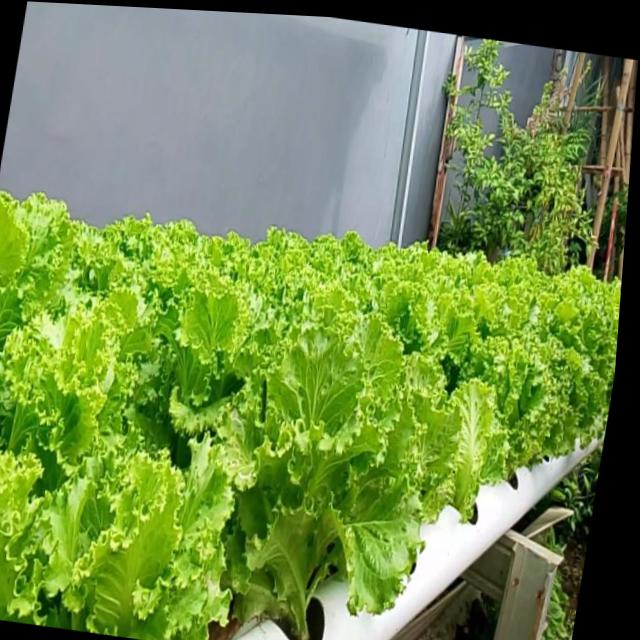Mature: (0, 192, 618, 640), (204, 327, 442, 640), (456, 333, 571, 492)
